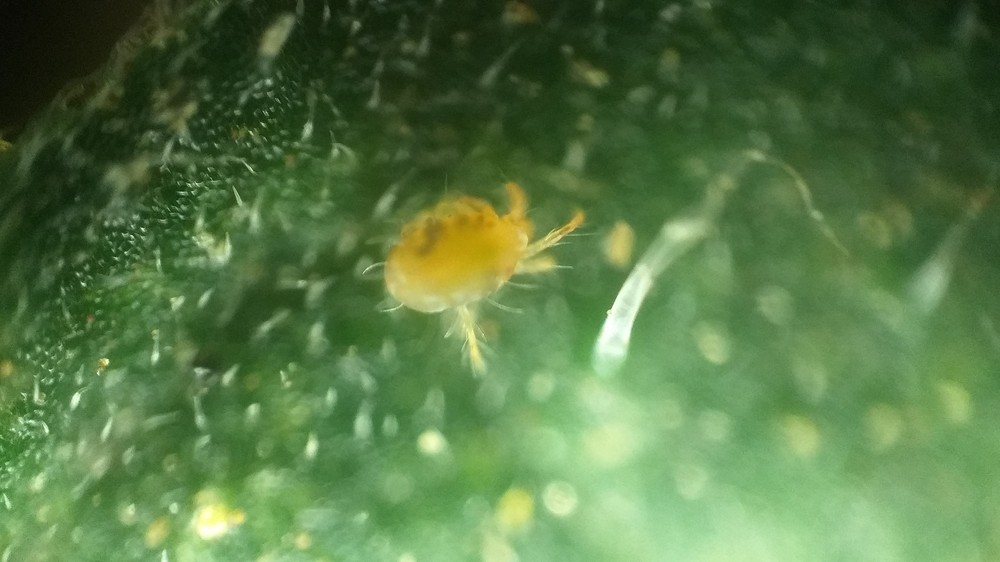Aracnido Rojo: (340, 162, 600, 397)
